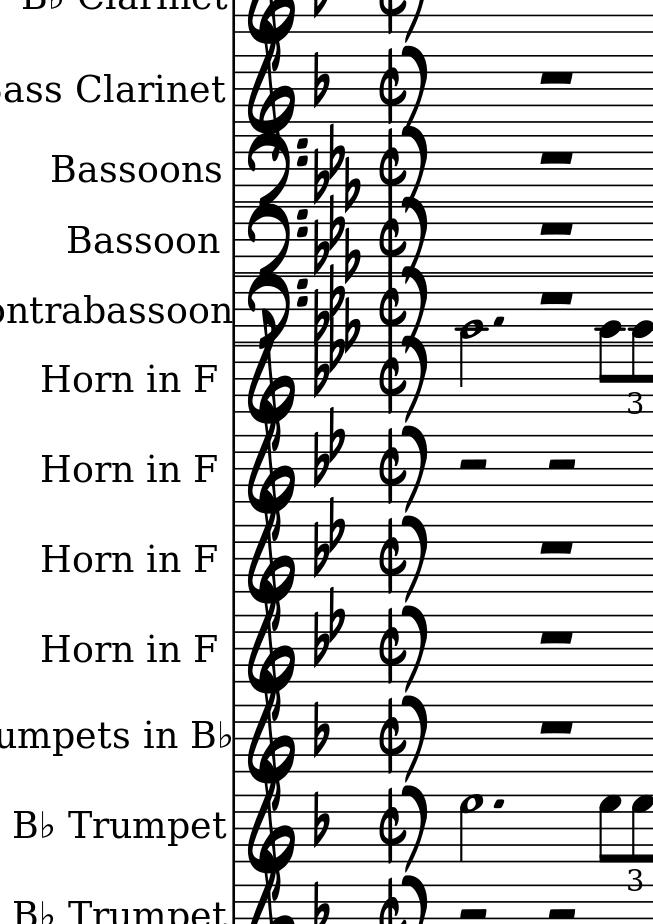Flat: (312, 789, 329, 850), (312, 700, 329, 757)
Rests1: (534, 66, 580, 88), (536, 285, 578, 308), (537, 144, 572, 170), (537, 623, 574, 647), (537, 217, 575, 238), (536, 540, 578, 559), (537, 715, 575, 736)
Rests2: (544, 454, 582, 478), (453, 454, 492, 475)
